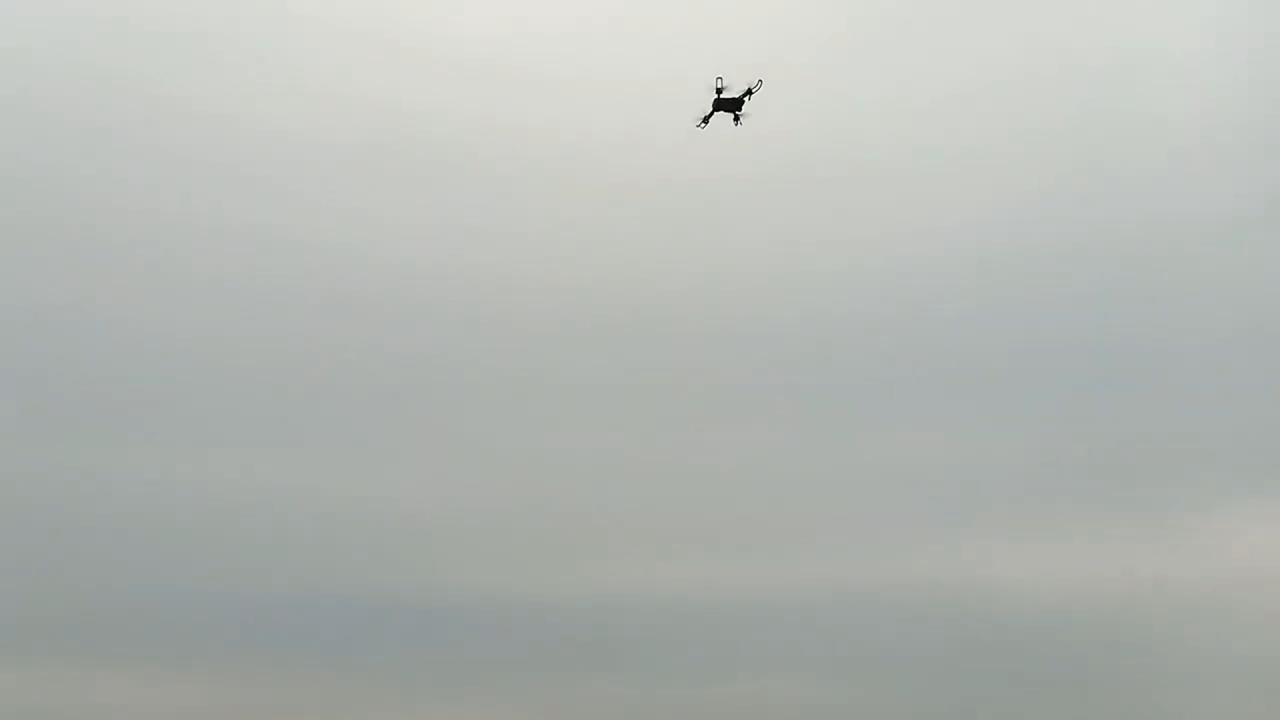Drone: (677, 65, 777, 145)
